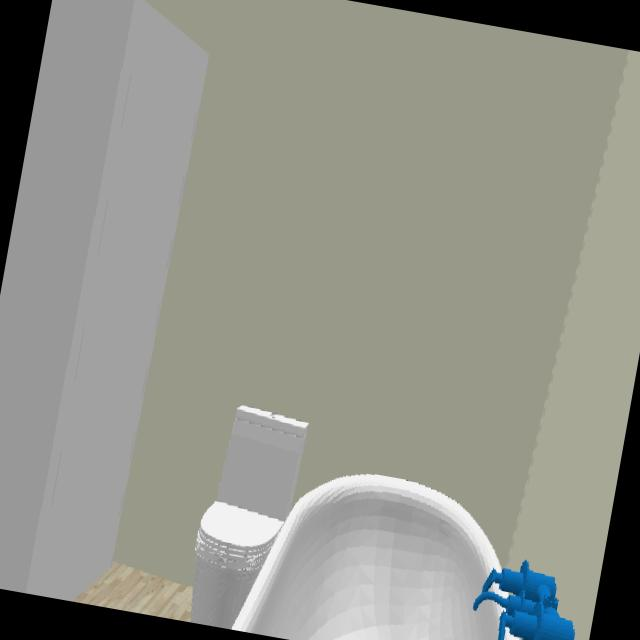bathtube: (229, 474, 575, 640)
toilet: (192, 406, 309, 628)
